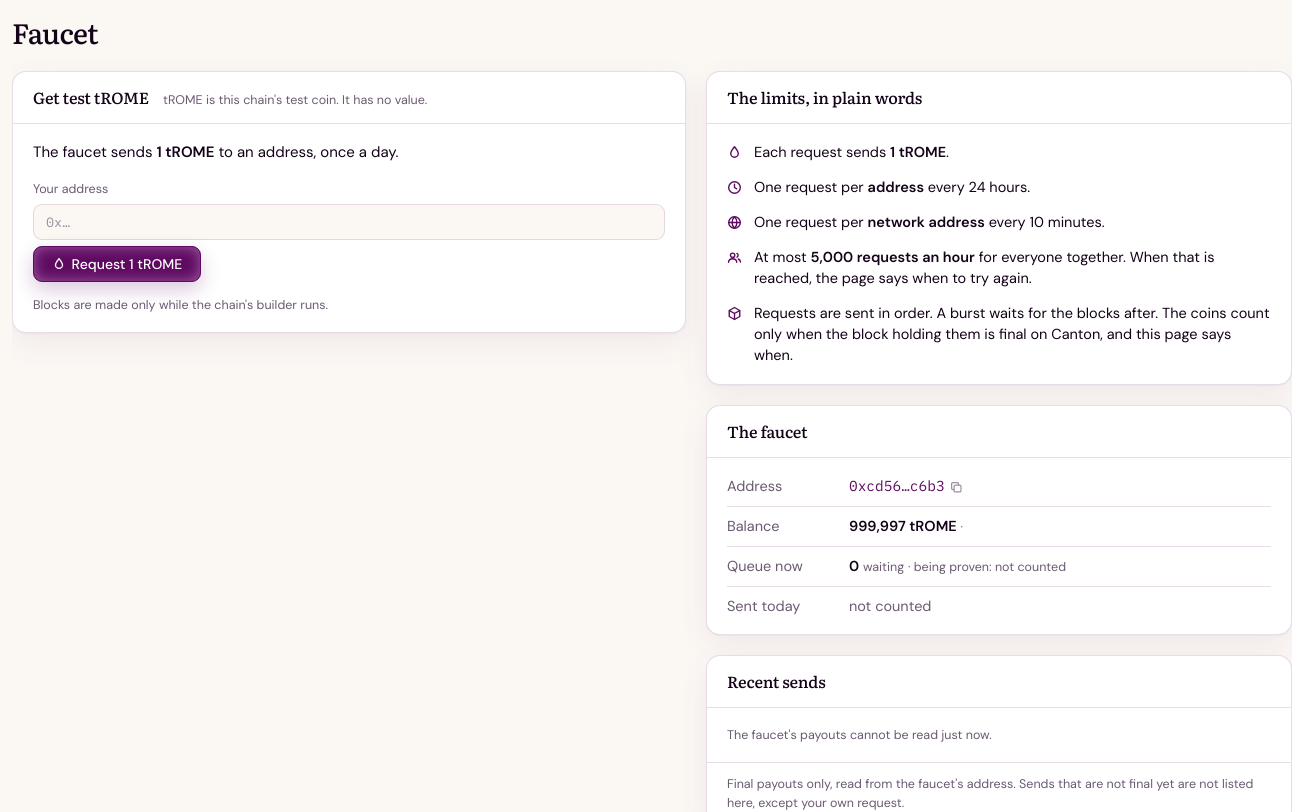
Test: the faucet turns a request away › does not make up a wait the answer did not give
In the field labelled "Your address": (349, 222) left=33, top=204, right=665, bottom=240, type "0x5a04de5c5ebd085f5e3b3ec791ab5cdc8e2b56f0"
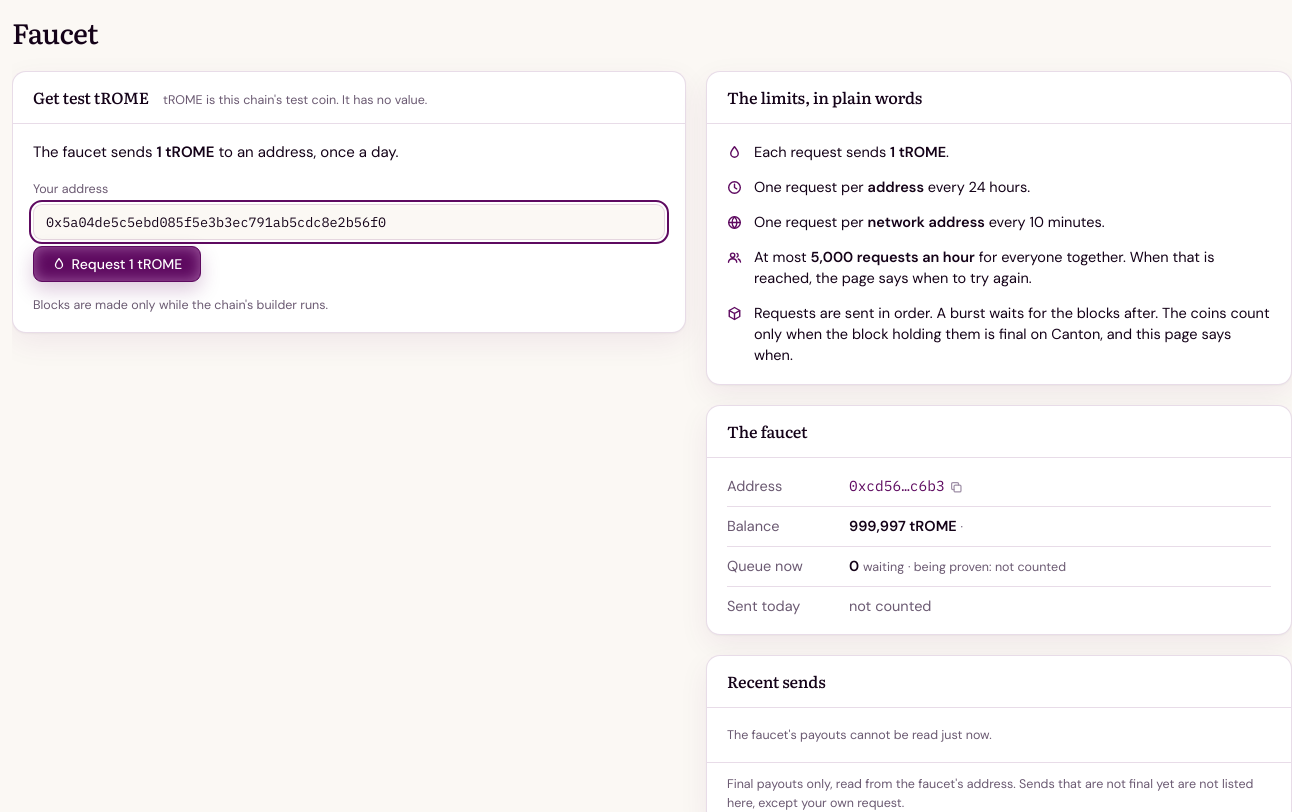
Click the button "Request 1 tROME": (117, 264) left=33, top=246, right=201, bottom=282
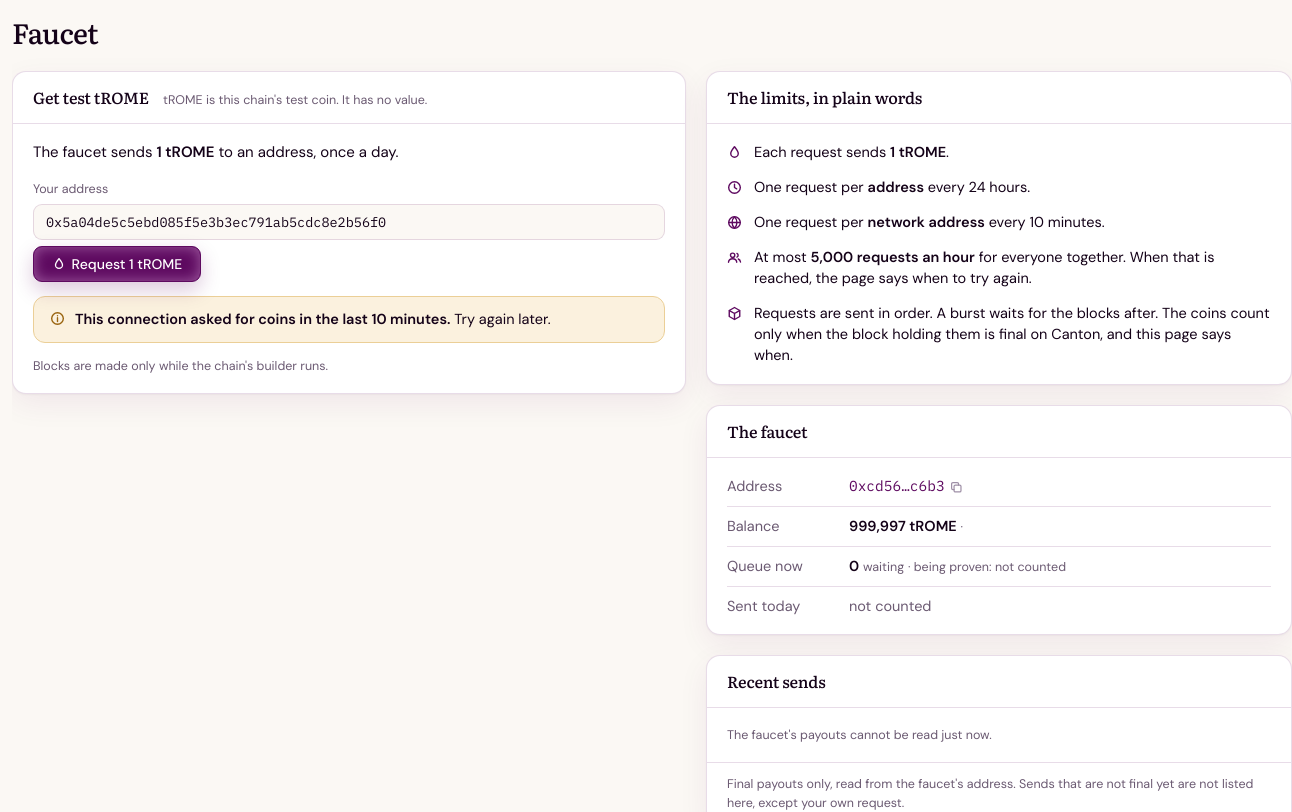
Expected: the message reads "This connection asked for coins in the last 10 minutes. Try again later.", left=33, top=296, right=665, bottom=343
